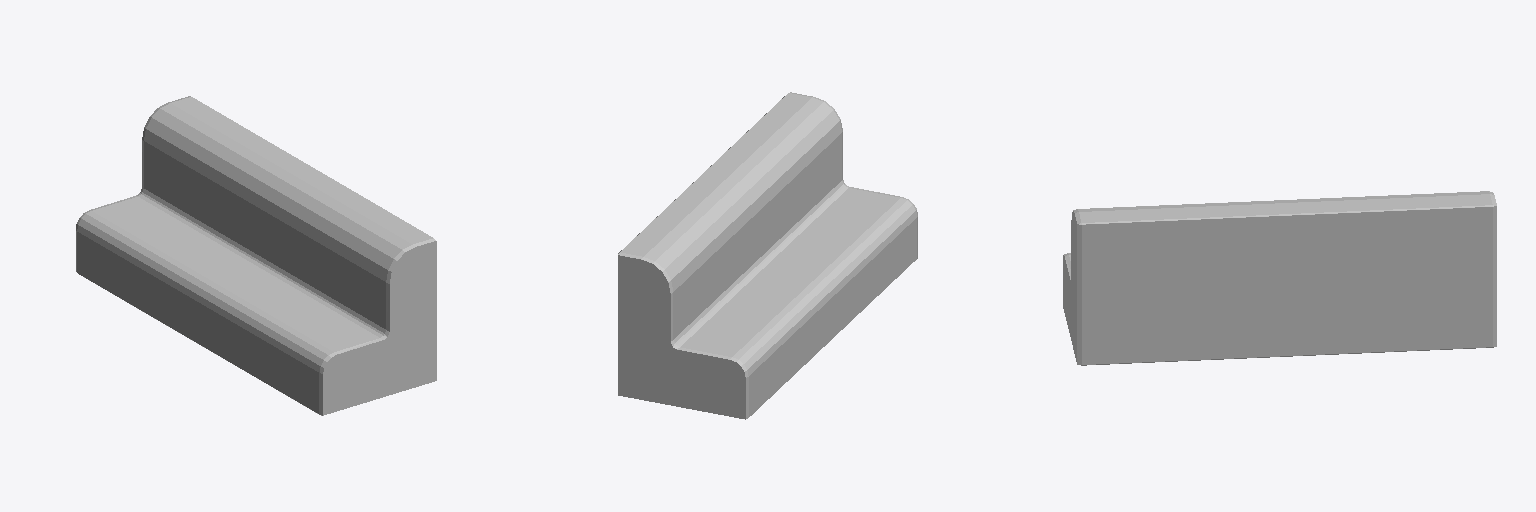
The model's file is seat_8.obj.
3 views of the same model, side by side, from view 1: azimuth 30°, elevation 25°; view 2: azimuth 150°, elevation 25°; view 3: azimuth 270°, elevation 25° (orthographic).
Parts seen in each view (by area): view 1: Cadeira1.007_Cube.007; view 2: Cadeira1.007_Cube.007; view 3: Cadeira1.007_Cube.007.
Boxes of the visible parts, <box> form: Cadeira1.007_Cube.007: <box>76,96,436,415</box>; Cadeira1.007_Cube.007: <box>618,92,917,419</box>; Cadeira1.007_Cube.007: <box>1063,191,1496,365</box>.
Size of the model in its own units: 1.41 by 1.2 by 3.32.